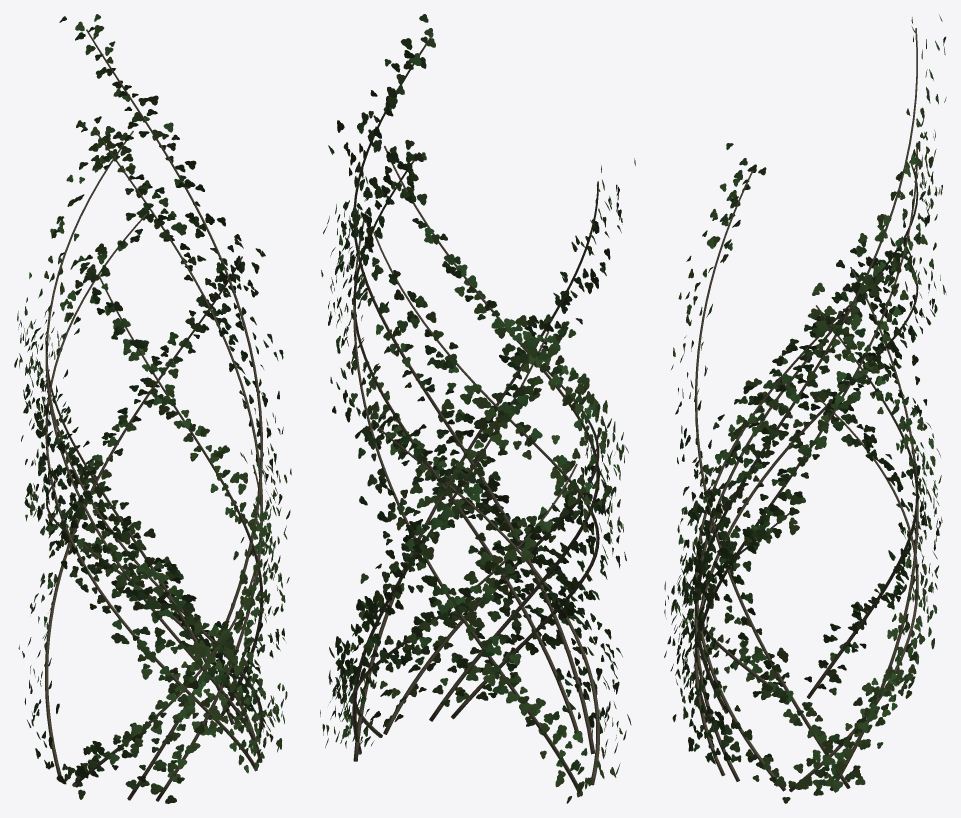
Rendered from ER_Lierre_Pile_4m7.gltf.
3 renders of one model, left to right at view 1: azimuth 30°, elevation 25°; view 2: azimuth 150°, elevation 25°; view 3: azimuth 270°, elevation 25°, orthographic. The views are drawn at different scales.
Parts seen in each view (by area): view 1: ER_Lierre_Pile_4m7_FEU.001, ER_Lierre_Pile_4m7_TIG.001; view 2: ER_Lierre_Pile_4m7_FEU.001, ER_Lierre_Pile_4m7_TIG.001; view 3: ER_Lierre_Pile_4m7_FEU.001, ER_Lierre_Pile_4m7_TIG.001.
Boxes of the visible parts, x1,y1,x2,y2 form: ER_Lierre_Pile_4m7_FEU.001: (14,14,291,803); ER_Lierre_Pile_4m7_TIG.001: (45,29,263,801); ER_Lierre_Pile_4m7_FEU.001: (320,14,635,803); ER_Lierre_Pile_4m7_TIG.001: (352,34,599,796); ER_Lierre_Pile_4m7_FEU.001: (664,15,946,803); ER_Lierre_Pile_4m7_TIG.001: (694,28,918,792).
Bounding box in the file's own units: 1.66 × 4.74 × 1.66.
